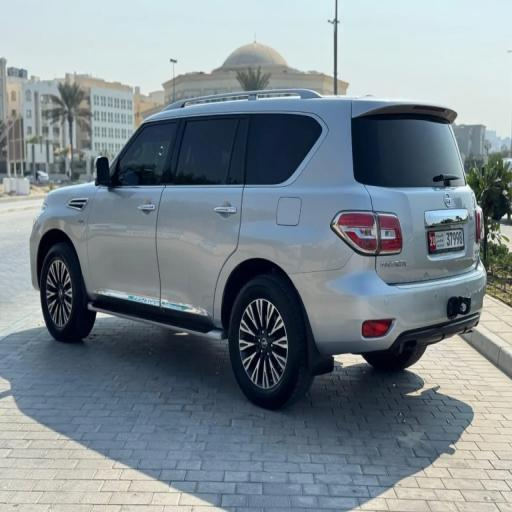license-plates: (428, 229, 464, 251)
